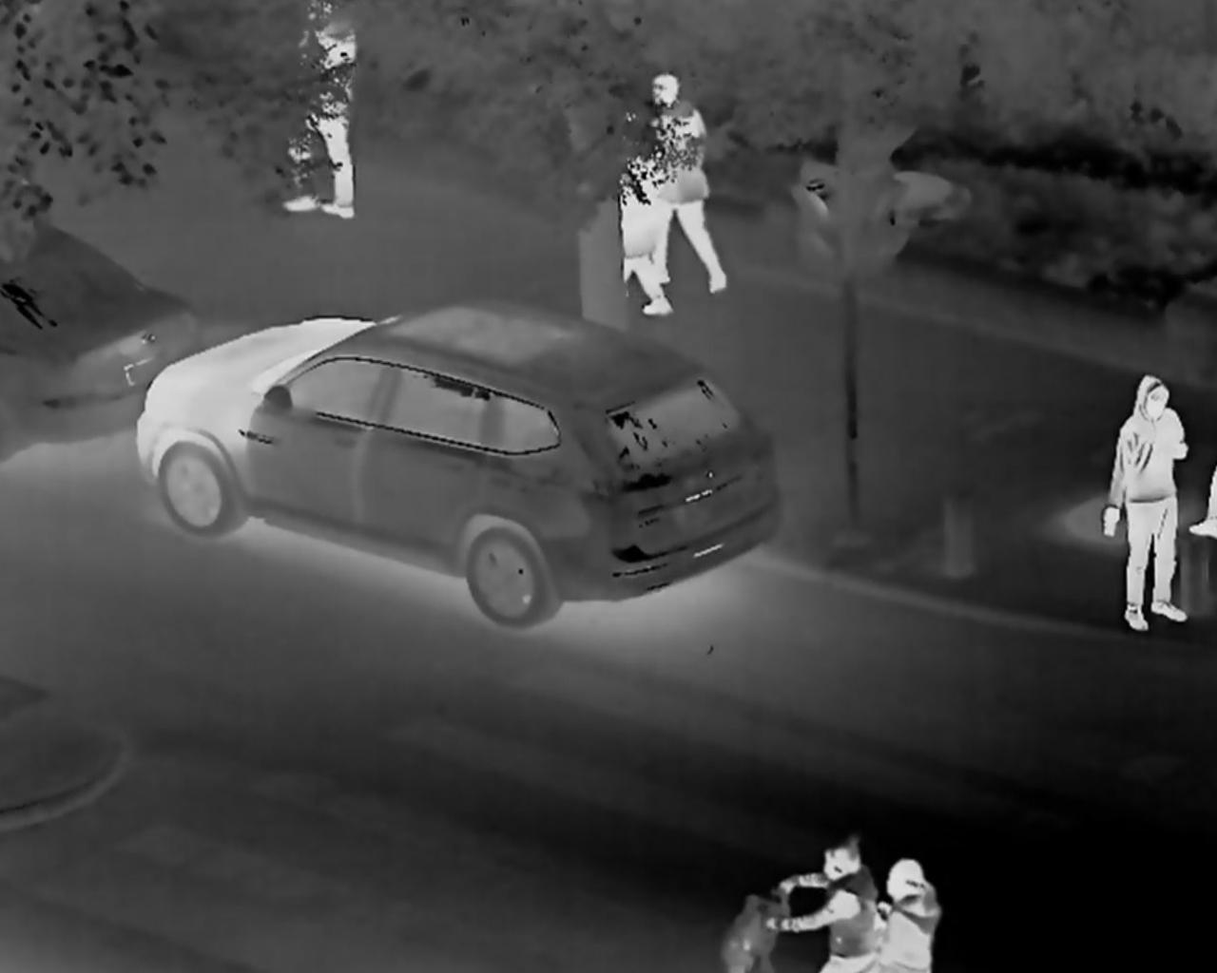person: (1096, 370, 1190, 633), (634, 68, 728, 296), (762, 829, 883, 973), (282, 2, 357, 220), (614, 111, 673, 315), (866, 855, 945, 973)
